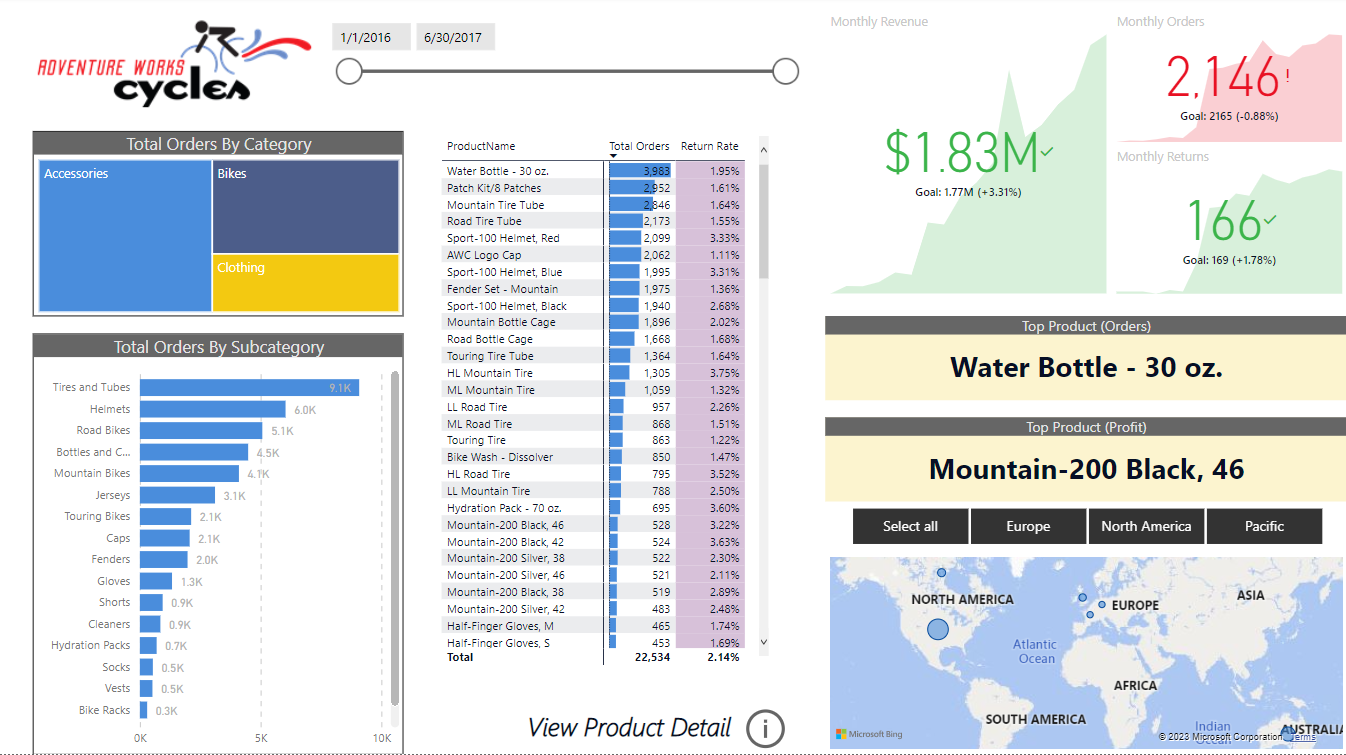

Layout of this report page (visuals, bound fields, positions):
{"tool":"powerbi","page":{"name":"Exec Summary ","canvas":[1280,720],"ordinal":0},"visuals":[{"type":"image","box":[32,0,272,128],"z":0},{"type":"barChart","title":"Total Orders By Subcategory ","fields":{"Y":["AW_Sales.Total Orders"],"Category":["AW_Product_Subcategories_Lookkup.SubcategoryName"]},"box":[32,320,352,400],"z":1000},{"type":"treemap","title":"Total Orders By Category ","fields":{"Group":["AW_Product_Categories_Lookup.CategoryName","AW_Product_Subcategories_Lookkup.SubcategoryName"],"Values":["AW_Sales.Total Orders"]},"box":[32,128,352,176],"z":2000},{"type":"pivotTable","fields":{"Values":["AW_Sales.Total Orders","AW_Returns.Return Rate"],"Rows":["AW_Product_Categories_Lookup.CategoryName","AW_Product_Subcategories_Lookkup.SubcategoryName","AW_Product_Lookup.ProductName"]},"box":[416,112,352,512],"z":3000},{"type":"slicer","fields":{"Values":["AW_Calendar_Lookup.Date"]},"box":[304,16,464,96],"z":4000},{"type":"kpi","title":"Monthly Revenue","fields":{"Indicator":["AW_Sales.Total Renvenue"],"TrendLine":["AW_Calendar_Lookup.Start of Month"],"Goal":["AW_Sales.Prev Month Revenue"]},"box":[784,16,272,272],"z":5000},{"type":"kpi","title":"Monthly Orders","fields":{"TrendLine":["AW_Calendar_Lookup.Start of Month"],"Indicator":["AW_Sales.Total Orders"],"Goal":["AW_Sales.Prev Month Orders"]},"box":[1056,16,224,128],"z":6000},{"type":"kpi","title":"Monthly Returns","fields":{"TrendLine":["AW_Calendar_Lookup.Start of Month"],"Goal":["AW_Returns.Prev Month Return"],"Indicator":["AW_Returns.Total Returns"]},"box":[1056,144,224,144],"z":7000},{"type":"card","title":"Top Product (Orders)","fields":{"Values":["Min(AW_Product_Lookup.ProductName)"]},"box":[784,304,496,80],"z":8000},{"type":"card","title":"Top Product (Profit)","fields":{"Values":["Min(AW_Product_Lookup.ProductName)"]},"box":[784,400,496,80],"z":9000},{"type":"map","fields":{"Category":["AW_Territories_Lookup.Country"],"Size":["AW_Sales.Total Orders"]},"box":[784,528,496,192],"z":10000},{"type":"slicer","fields":{"Values":["AW_Territories_Lookup.Continent"]},"box":[784,480,496,48],"z":11000},{"type":"textbox","box":[96,304,320,112],"z":12000},{"type":"textbox","box":[511.6,639.8,220.8,48.7],"z":13000},{"type":"actionButton","box":[720,640,48,48],"z":14000}]}

Visuals, with their boxes in screenshot pixels (x1, y1, x2, y2), scaled from the page's 1280x720 canvas onto the 1346x755 screenshot:
image: BBox(34, 0, 320, 134)
"Total Orders By Subcategory " barChart: BBox(34, 336, 404, 754)
"Total Orders By Category " treemap: BBox(34, 134, 404, 319)
pivotTable - AW_Sales.Total Orders x AW_Returns.Return Rate: BBox(437, 117, 808, 654)
slicer - AW_Calendar_Lookup.Date: BBox(320, 17, 808, 117)
"Monthly Revenue" kpi: BBox(824, 17, 1110, 302)
"Monthly Orders" kpi: BBox(1110, 17, 1345, 151)
"Monthly Returns" kpi: BBox(1110, 151, 1345, 302)
"Top Product (Orders)" card: BBox(824, 319, 1345, 403)
"Top Product (Profit)" card: BBox(824, 419, 1345, 503)
map - AW_Territories_Lookup.Country x AW_Sales.Total Orders: BBox(824, 554, 1345, 754)
slicer - AW_Territories_Lookup.Continent: BBox(824, 503, 1345, 554)
textbox: BBox(101, 319, 437, 436)
textbox: BBox(538, 671, 770, 722)
actionButton: BBox(757, 671, 808, 721)
